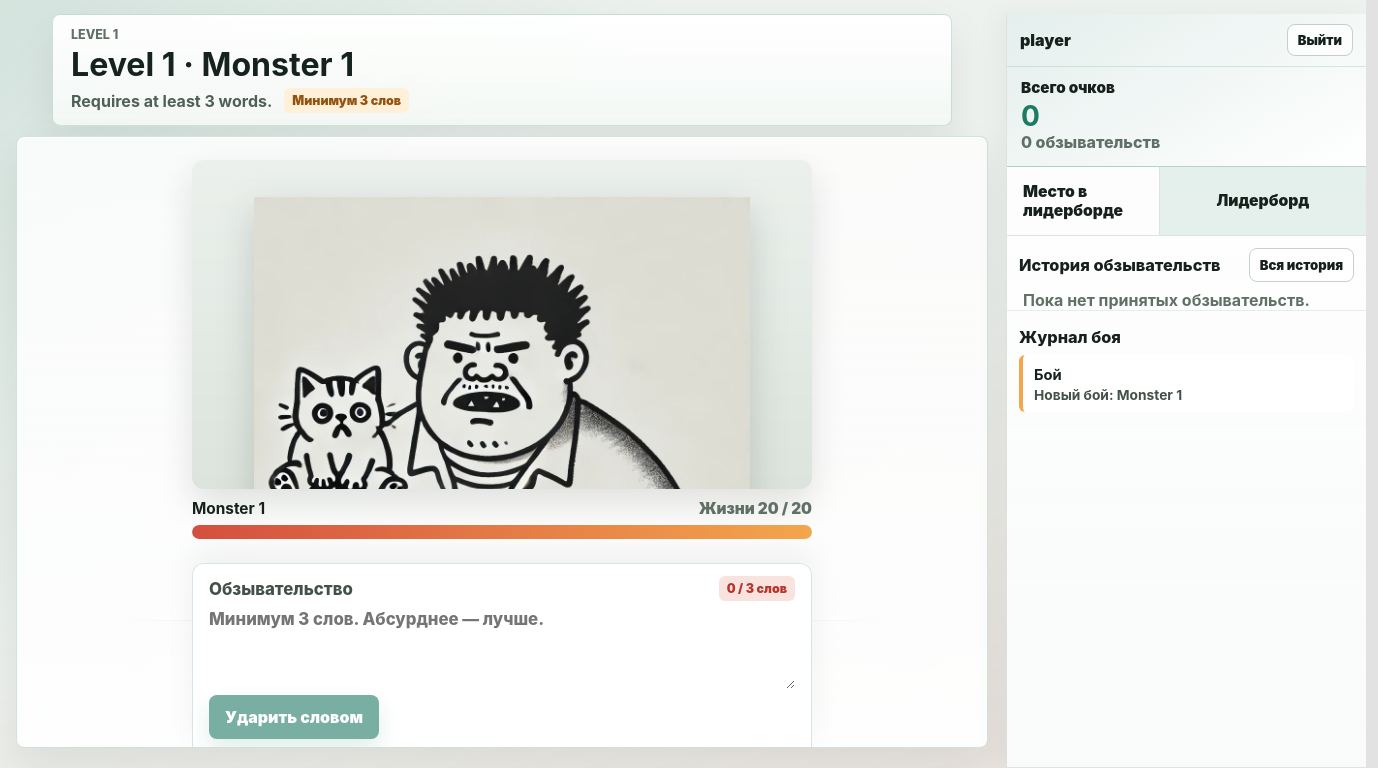
Test: App API contract behavior › uses 409 game payload to refresh fight state and show stale session event
Type "устаревший смешной удар" into the text box labelled "Обзывательство 0 / 3 слов".
click(502, 649); type("устаревший смешной удар")  # box [209,609,795,689]
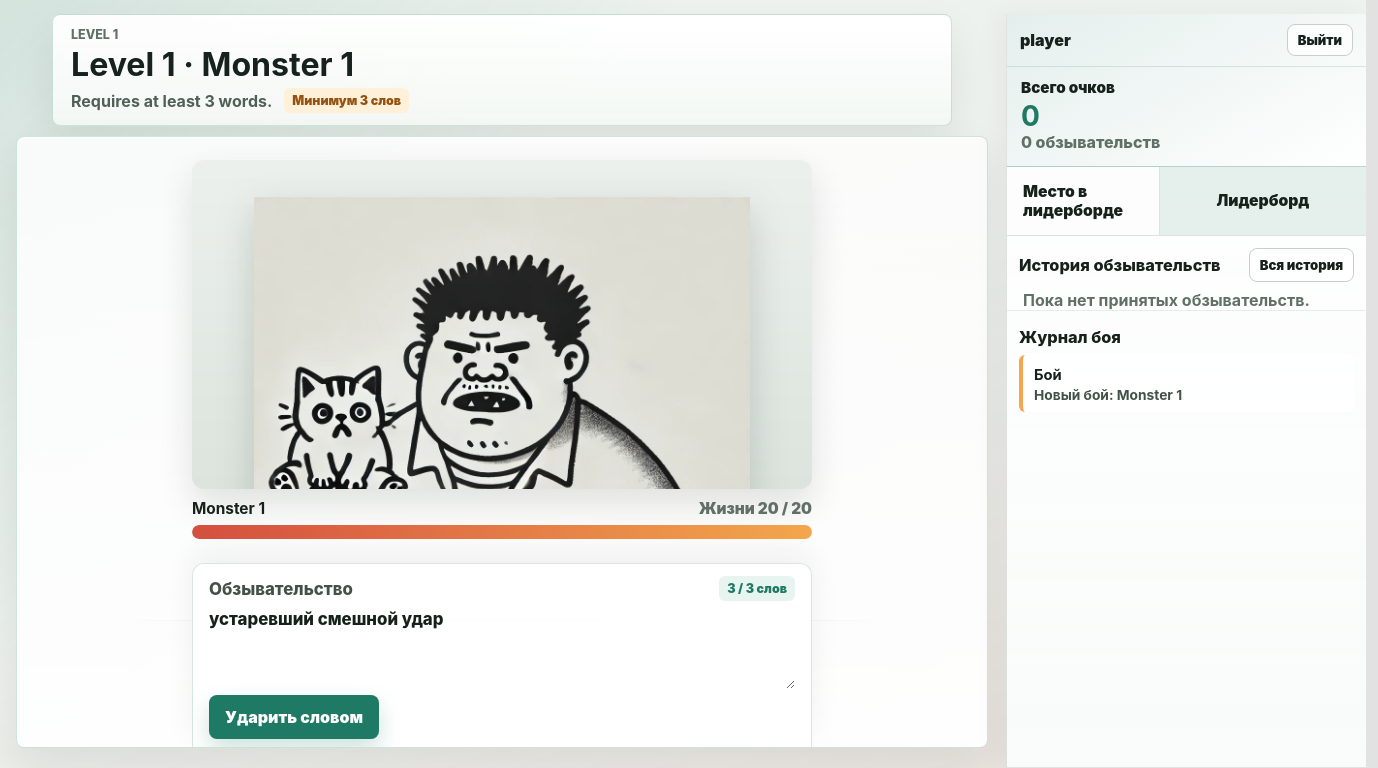
Submit the form with class "insult-form", box [192,563,812,747]
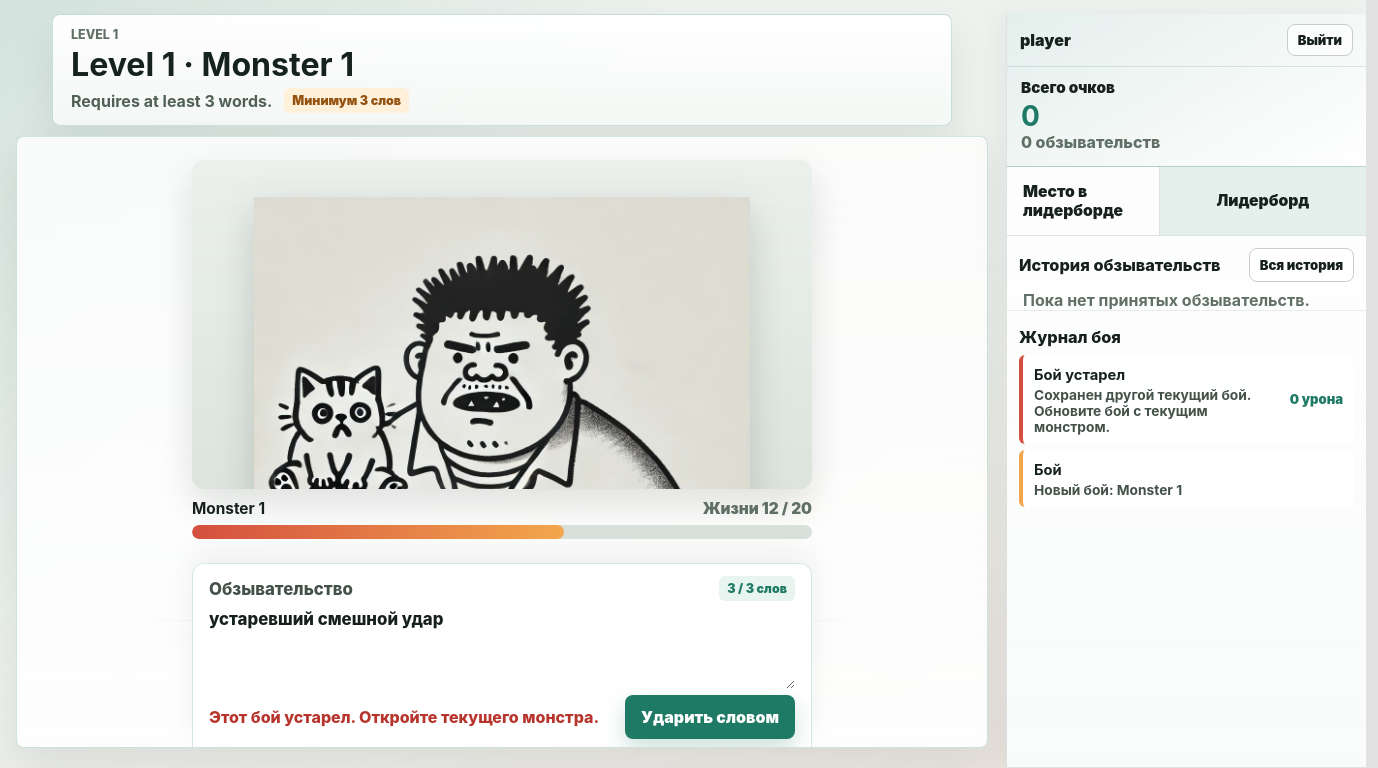
Check: the text "Жизни 12 / 20" is shown, box [703,499,812,518]
Check: the text "бой устарел" is shown, box [209,707,599,727]
Check: the text "Сохранен другой текущий бой" is shown, box [1034,387,1251,435]
